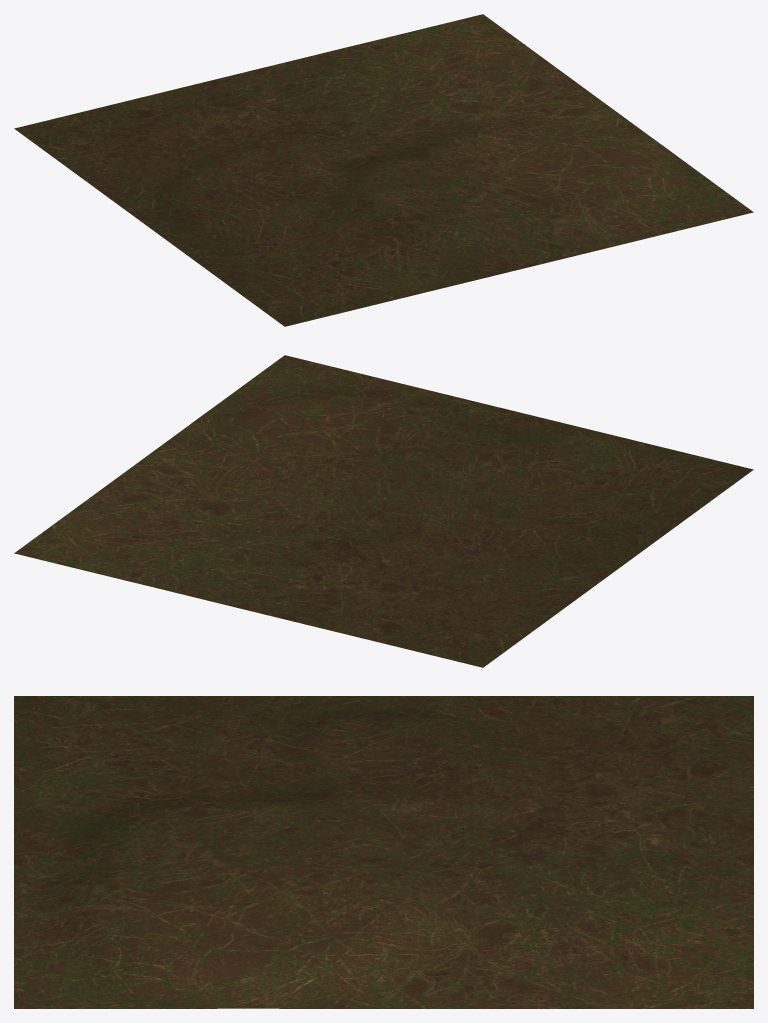
The model's file is Soil.glb.
3 views of the same model, one above another, from view 1: azimuth 30°, elevation 25°; view 2: azimuth 150°, elevation 25°; view 3: azimuth 270°, elevation 25° (orthographic). The views are drawn at different scales.
Visible parts, largest first — view 1: Plane; view 2: Plane; view 3: Plane.
Boxes of the visible parts, left/top/right/bottom form: Plane: left=14, top=14, right=753, bottom=326; Plane: left=14, top=355, right=753, bottom=667; Plane: left=14, top=696, right=753, bottom=1008.
Size of the model in its own units: 2 by 0.0488 by 2.
1 material, 1 textured.
